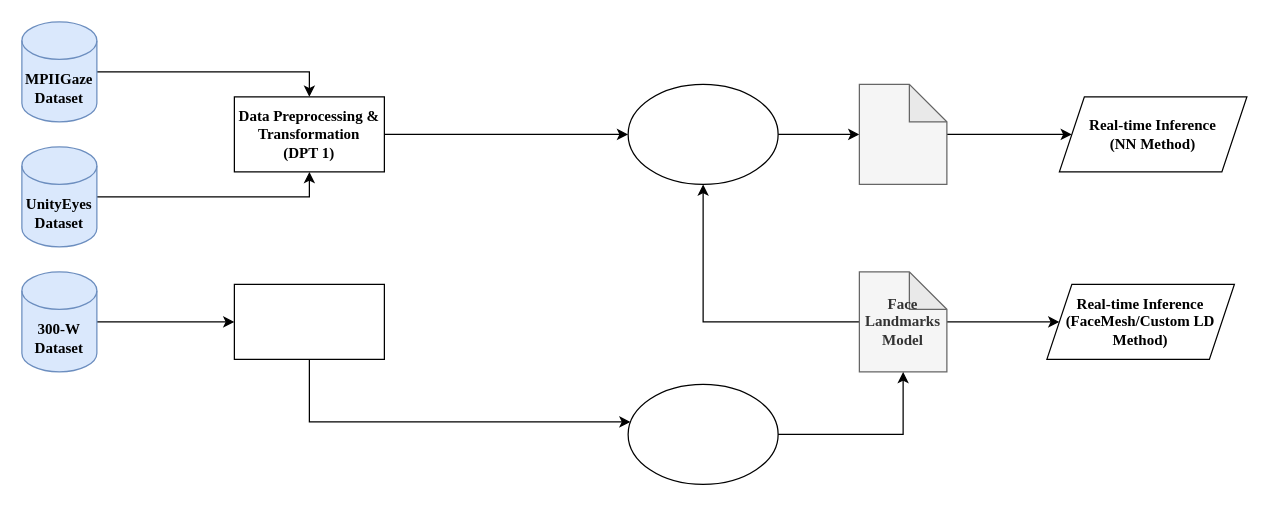
Image size: 1269x506. Some labels were removed from this diagram. The shapes that lost their labels are listed below. From the top down, each one's box as (x1, y1, x2, y2) in pixels, then its label:
(627, 83, 778, 184): Stacked Hourglass Model Training
(858, 83, 947, 184): Eye Gaze Prediction Model
(233, 283, 384, 359): Data Preprocessing & Transformation (DPT 2)
(627, 383, 778, 484): ResNet-18 Model Training
